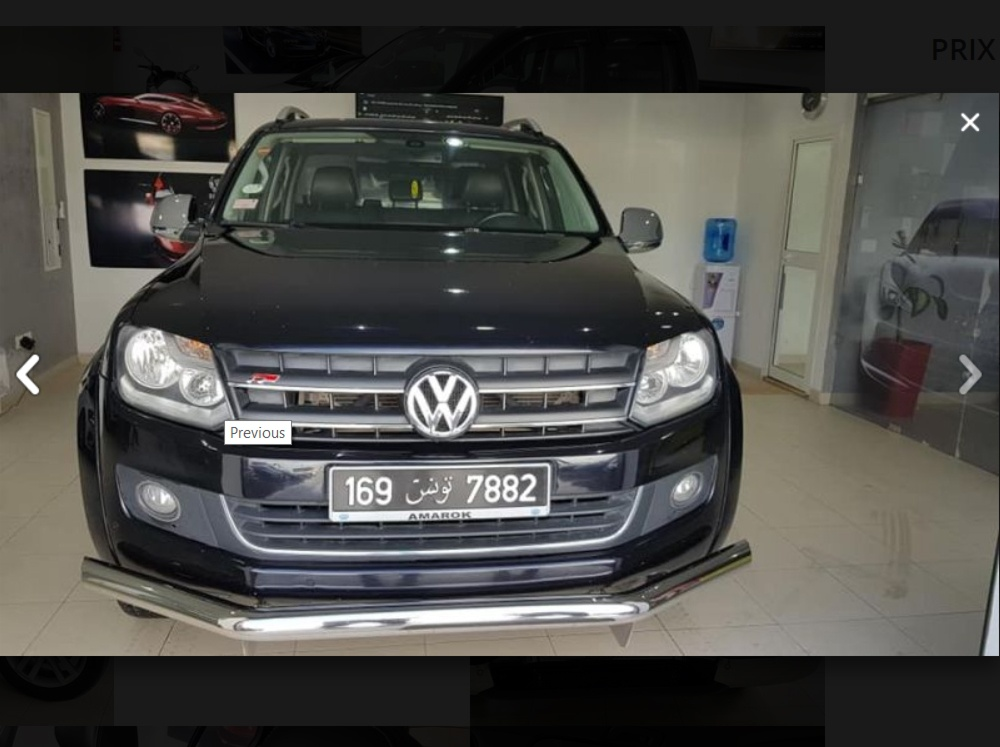LP: (328, 463, 550, 515)
